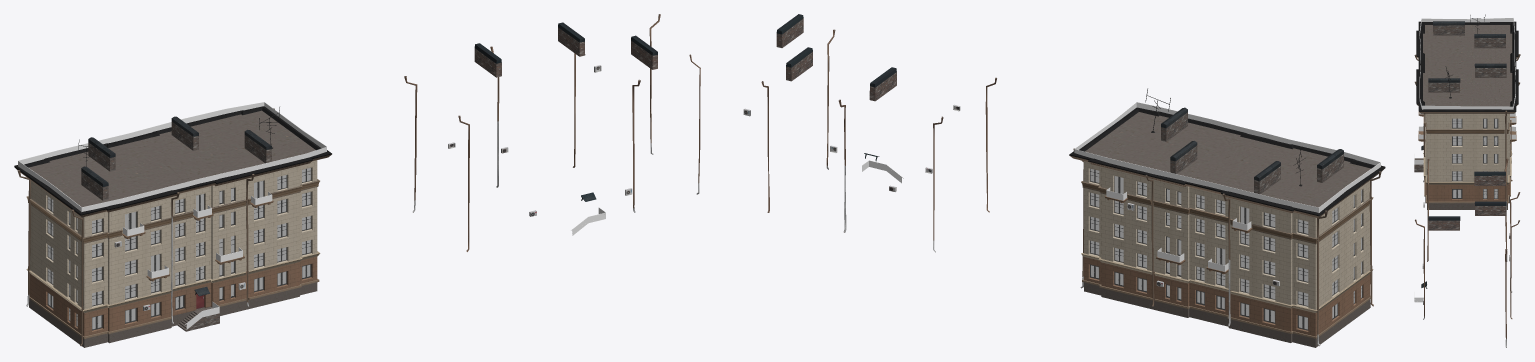
File: build.glb
3 renders of one model, left to right at view 1: azimuth 30°, elevation 25°; view 2: azimuth 150°, elevation 25°; view 3: azimuth 270°, elevation 25°, orthographic. The views are drawn at different scales.
Visible parts, largest first — view 1: Build, RoofFence, BuildDecUp, BuildDecMed, BuildDecDown, BuildAir.002, BuildAir, BuildAir.005, BuildAir.006, BuildAir.001, BuildAir.004, BuildAir.003 (+1 smaller); view 2: Build, RoofFence, BuildDecUp, BuildDecMed, BuildDecDown, BuildAir.003, BuildAir.002, BuildAir.006, BuildAir.004, BuildAir.001, BuildAir, BuildAir.005; view 3: Build, RoofFence, BuildAir.001, BuildAir.003, BuildAir.006, BuildAir.004, BuildAir, BuildAir.005, BuildAir.002, BuildDecUp, BuildDecMed, BuildDecDown (+10 smaller).
Part boxes in pixels (bbox=[...]): Build: bbox=[14, 106, 331, 347]; RoofFence: bbox=[18, 102, 326, 211]; BuildDecUp: bbox=[26, 179, 319, 243]; BuildDecMed: bbox=[26, 251, 320, 312]; BuildDecDown: bbox=[29, 279, 319, 338]; BuildAir.002: bbox=[474, 43, 501, 77]; BuildAir: bbox=[81, 166, 108, 200]; BuildAir.005: bbox=[88, 137, 115, 171]; BuildAir.006: bbox=[171, 116, 198, 150]; BuildAir.001: bbox=[244, 129, 271, 163]; BuildAir.004: bbox=[558, 22, 585, 56]; BuildAir.003: bbox=[631, 35, 657, 69]; Build: bbox=[1069, 107, 1385, 347]; RoofFence: bbox=[1074, 102, 1380, 212]; BuildDecUp: bbox=[1081, 181, 1373, 244]; BuildDecMed: bbox=[1081, 253, 1373, 313]; BuildDecDown: bbox=[1082, 279, 1370, 338]; BuildAir.003: bbox=[776, 14, 803, 47]; BuildAir.002: bbox=[869, 67, 896, 101]; BuildAir.006: bbox=[1170, 141, 1197, 173]; BuildAir.004: bbox=[786, 47, 812, 81]; BuildAir.001: bbox=[1161, 107, 1187, 141]; BuildAir: bbox=[1317, 149, 1343, 182]; BuildAir.005: bbox=[1254, 161, 1280, 194]; Build: bbox=[1416, 21, 1518, 209]; RoofFence: bbox=[1419, 17, 1515, 109]; BuildAir.001: bbox=[1428, 78, 1460, 92]; BuildAir.003: bbox=[1428, 216, 1460, 230]; BuildAir.006: bbox=[1474, 63, 1506, 77]; BuildAir.004: bbox=[1474, 201, 1506, 215]; BuildAir: bbox=[1433, 21, 1464, 35]; BuildAir.005: bbox=[1474, 34, 1505, 48]; BuildAir.002: bbox=[1474, 171, 1505, 185]; BuildDecUp: bbox=[1423, 113, 1511, 133]; BuildDecMed: bbox=[1423, 144, 1511, 184]; BuildDecDown: bbox=[1424, 177, 1510, 203].
Size of what is drawn, in the model's own units: 2.69 by 0.7203 by 0.5285.
Materials: 14 (13 with a texture image).
